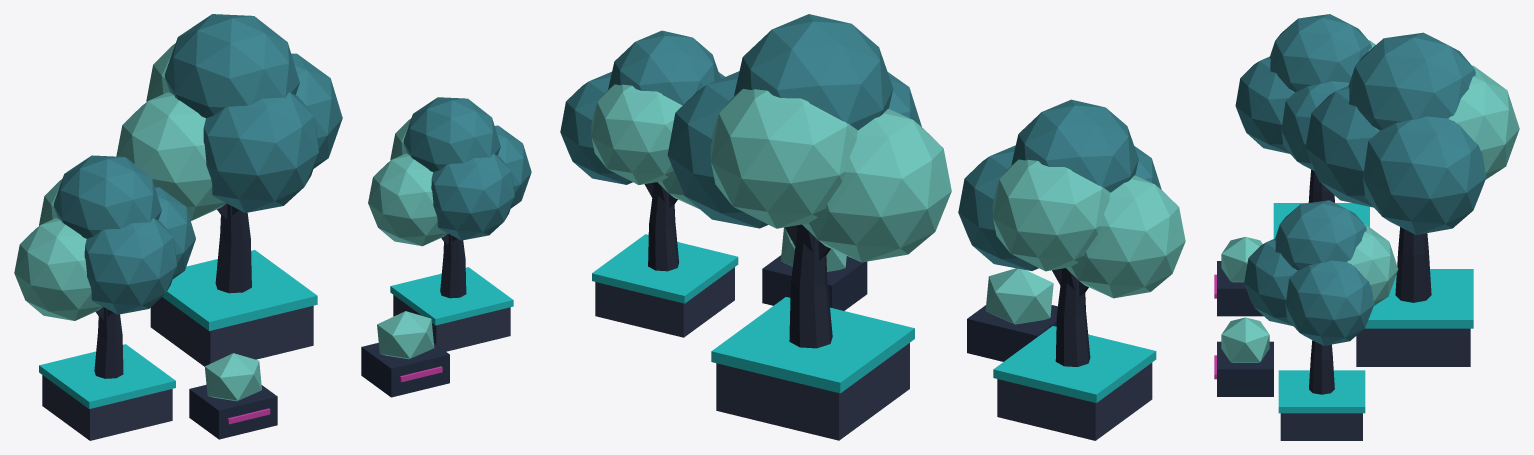
Rendered from Neon_CyberGarden_Showcase.glb.
3 views of the same model, side by side, from view 1: azimuth 30°, elevation 25°; view 2: azimuth 150°, elevation 25°; view 3: azimuth 270°, elevation 25° (orthographic). The views are drawn at different scales.
Visible parts, largest first — view 1: Neon_CyberGarden_Showcase; view 2: Neon_CyberGarden_Showcase; view 3: Neon_CyberGarden_Showcase.
Boxes of the visible parts, box(x1,y1,x2,y2) form: Neon_CyberGarden_Showcase: box(14, 14, 531, 440); Neon_CyberGarden_Showcase: box(560, 14, 1185, 440); Neon_CyberGarden_Showcase: box(1214, 14, 1519, 440).
Size of the model in its own units: 7.37 by 4.41 by 4.
